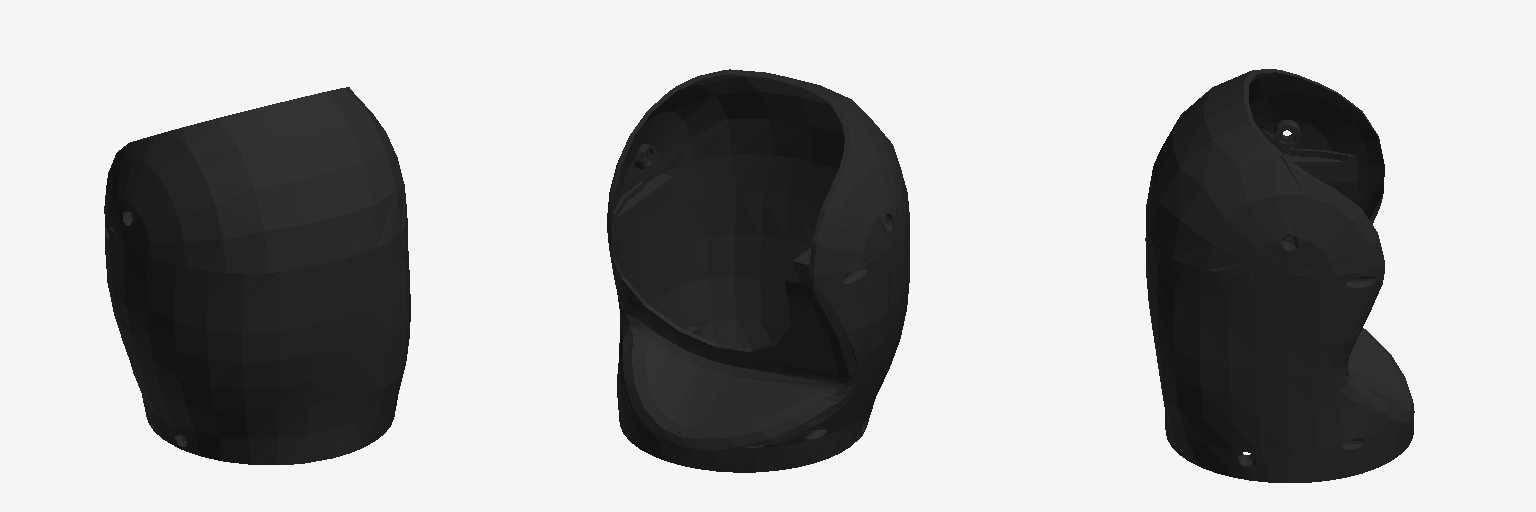
The model's file is asm0001_vrml_19_prt.obj.
3 renders of one model, left to right at view 1: azimuth 30°, elevation 25°; view 2: azimuth 150°, elevation 25°; view 3: azimuth 270°, elevation 25°, orthographic.
Parts seen in each view (by area): view 1: ShapeIndexedFaceSet_ShapeIndexedFaceSet.053, ShapeIndexedFaceSet.001_ShapeIndexedFaceSet; view 2: ShapeIndexedFaceSet_ShapeIndexedFaceSet.053, ShapeIndexedFaceSet.001_ShapeIndexedFaceSet; view 3: ShapeIndexedFaceSet_ShapeIndexedFaceSet.053, ShapeIndexedFaceSet.001_ShapeIndexedFaceSet.
Part boxes in pixels (left/top/right/bottom): ShapeIndexedFaceSet_ShapeIndexedFaceSet.053: left=104, top=87, right=410, bottom=464; ShapeIndexedFaceSet.001_ShapeIndexedFaceSet: left=104, top=208, right=162, bottom=438; ShapeIndexedFaceSet_ShapeIndexedFaceSet.053: left=607, top=69, right=909, bottom=445; ShapeIndexedFaceSet.001_ShapeIndexedFaceSet: left=607, top=182, right=889, bottom=472; ShapeIndexedFaceSet_ShapeIndexedFaceSet.053: left=1145, top=69, right=1384, bottom=482; ShapeIndexedFaceSet.001_ShapeIndexedFaceSet: left=1290, top=148, right=1414, bottom=482.
Size of the model in its own units: 3.3 by 4.1 by 3.02.